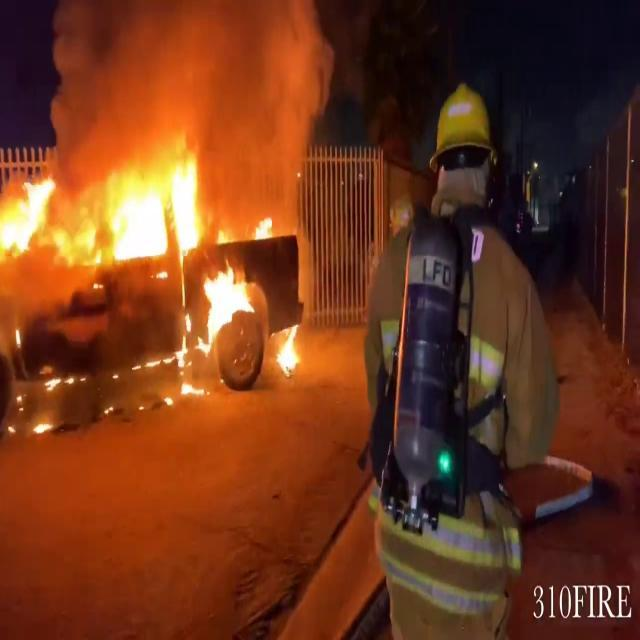Fire: (0, 135, 254, 374), (0, 168, 60, 264), (274, 318, 304, 376)
Smoke: (44, 0, 330, 186)
